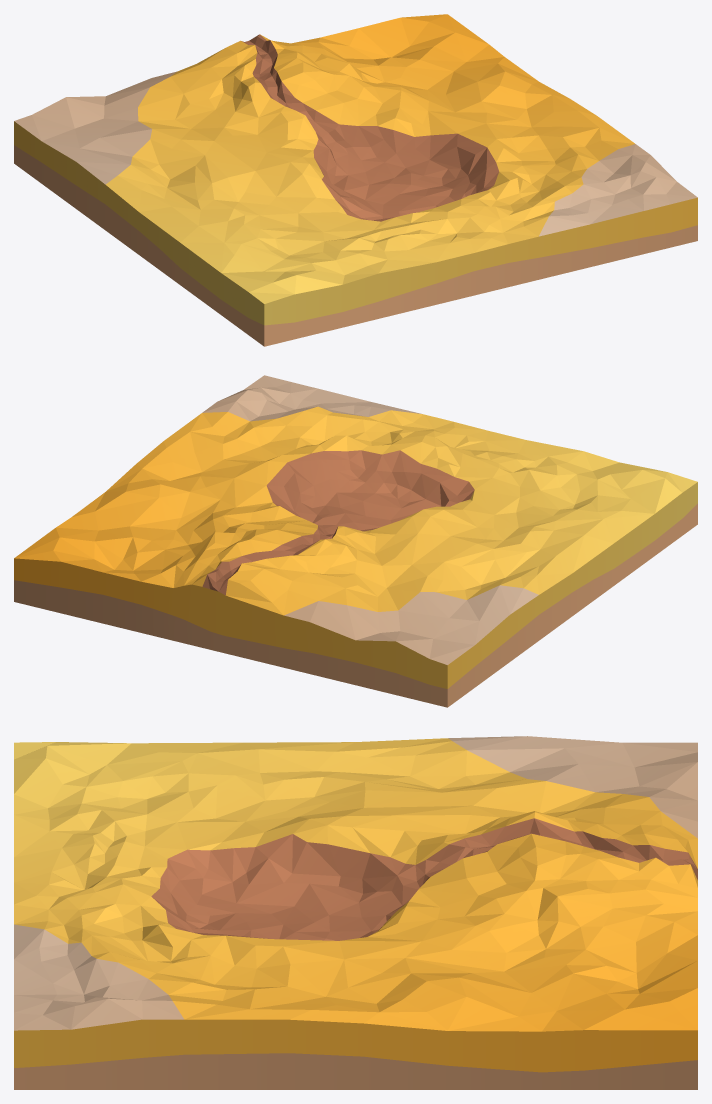
The model's file is land autumn atmosphere forest.fbx.
The picture shows the model from 3 angles, top to bottom: view 1: azimuth 30°, elevation 25°; view 2: azimuth 150°, elevation 25°; view 3: azimuth 270°, elevation 25°; orthographic projection. The views are drawn at different scales.
Visible parts, largest first — view 1: land autumn atmosphere forest; view 2: land autumn atmosphere forest; view 3: land autumn atmosphere forest.
Part boxes in pixels (x1,y1,x2,y2): land autumn atmosphere forest: (14,14,697,346); land autumn atmosphere forest: (14,375,697,707); land autumn atmosphere forest: (14,736,697,1089).
Size of the model in its own units: 4500 by 797 by 4500.
